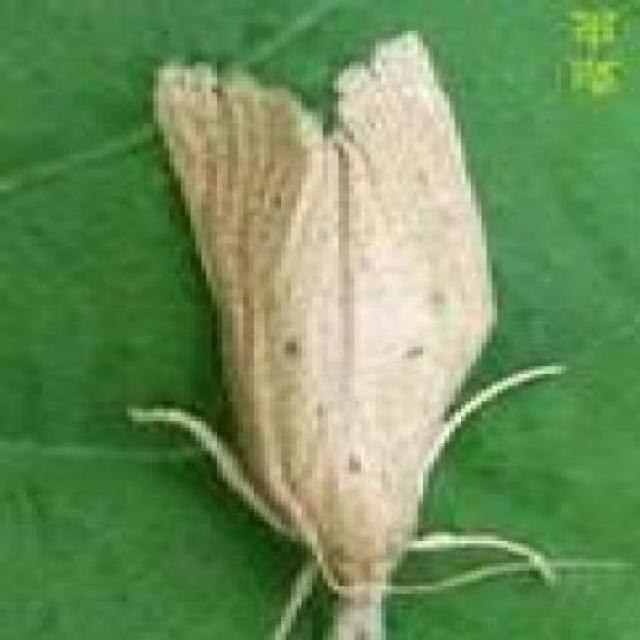stem-borer: (118, 27, 552, 640)
